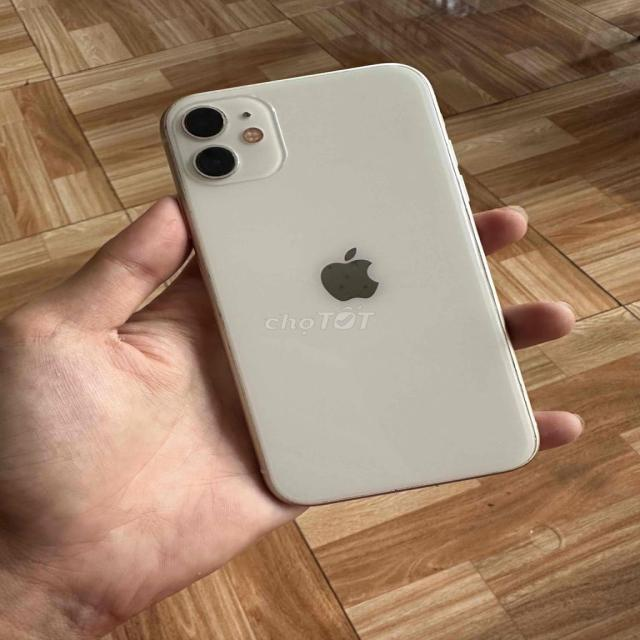gen_11: (162, 58, 554, 521)
